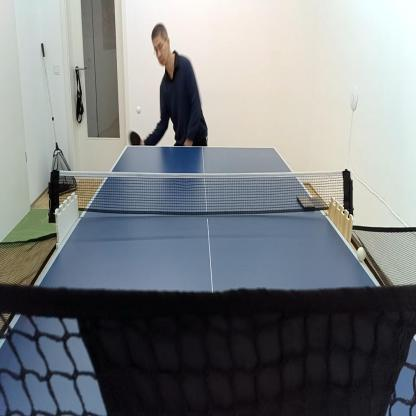Ball: (356, 245, 366, 261), (136, 105, 141, 115)
